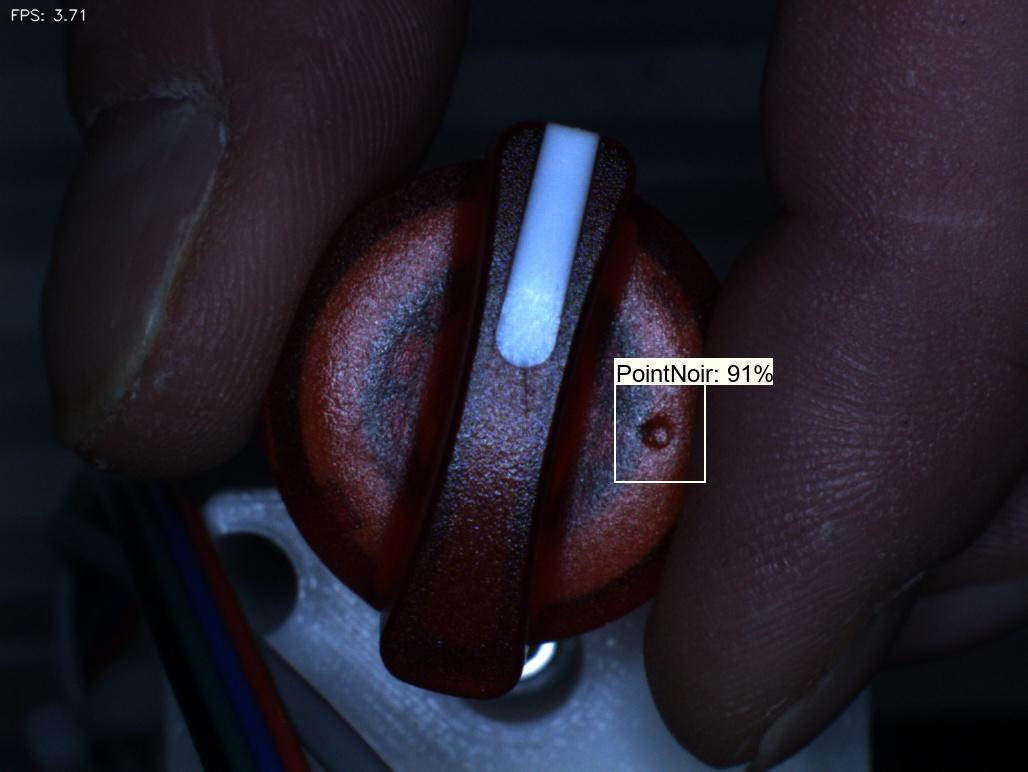Choc: (617, 393, 692, 468)
